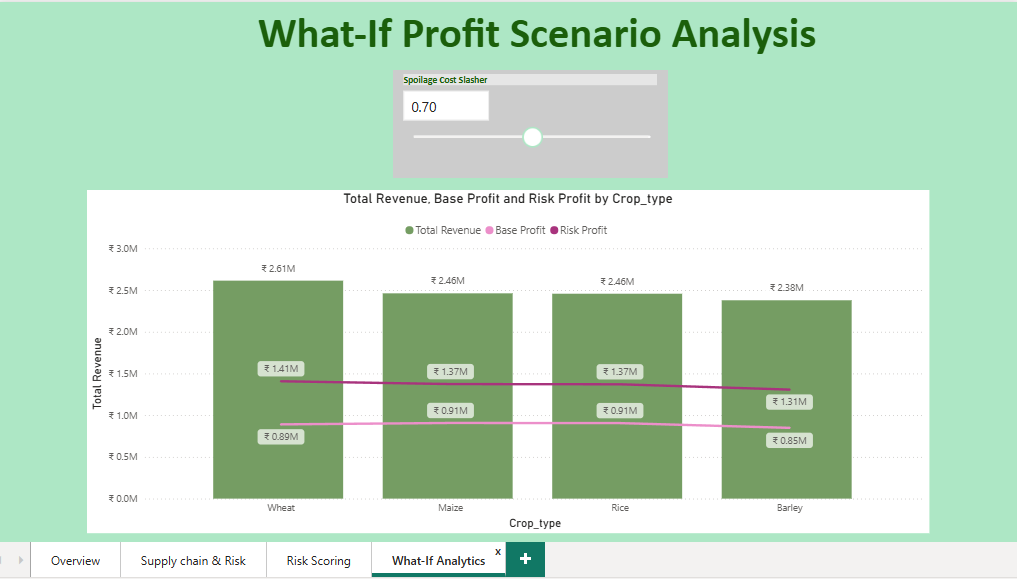

This screenshot's page, from the dashboard's own definition file:
{"tool":"powerbi","page":{"name":"What-If Analytics","canvas":[1280,720],"ordinal":3},"visuals":[{"type":"slicer","fields":{"Values":["Spoilage Cost Slasher.Spoilage Cost Slasher"]},"box":[496.2,85,342.5,133.8],"z":0},{"type":"lineClusteredColumnComboChart","fields":{"Category":["agri_supplychain_cleaned.crop_type"],"Y":["Sum(agri_supplychain_cleaned.total_revenue)"],"Y2":["agri_supplychain_cleaned.Projected_Profit_Baseline","agri_supplychain_cleaned.Simulated_Risk_Profit"]},"box":[113.8,235,1052.6,429.1],"z":1000},{"type":"textbox","box":[72.5,0,1207.5,76.2],"z":2000}]}

Visuals, with their boxes on the page's 1280x720 design canvas (x1, y1, x2, y2). These are canvas units, not pixel positions in the 1017x579 screenshot, which may show the page scaled, cropped or inside an application window:
slicer - Spoilage Cost Slasher.Spoilage Cost Slasher: region(496, 85, 839, 219)
lineClusteredColumnComboChart - agri_supplychain_cleaned.crop_type x Sum(agri_supplychain_cleaned.total_revenue): region(114, 235, 1166, 664)
textbox: region(72, 0, 1280, 76)
